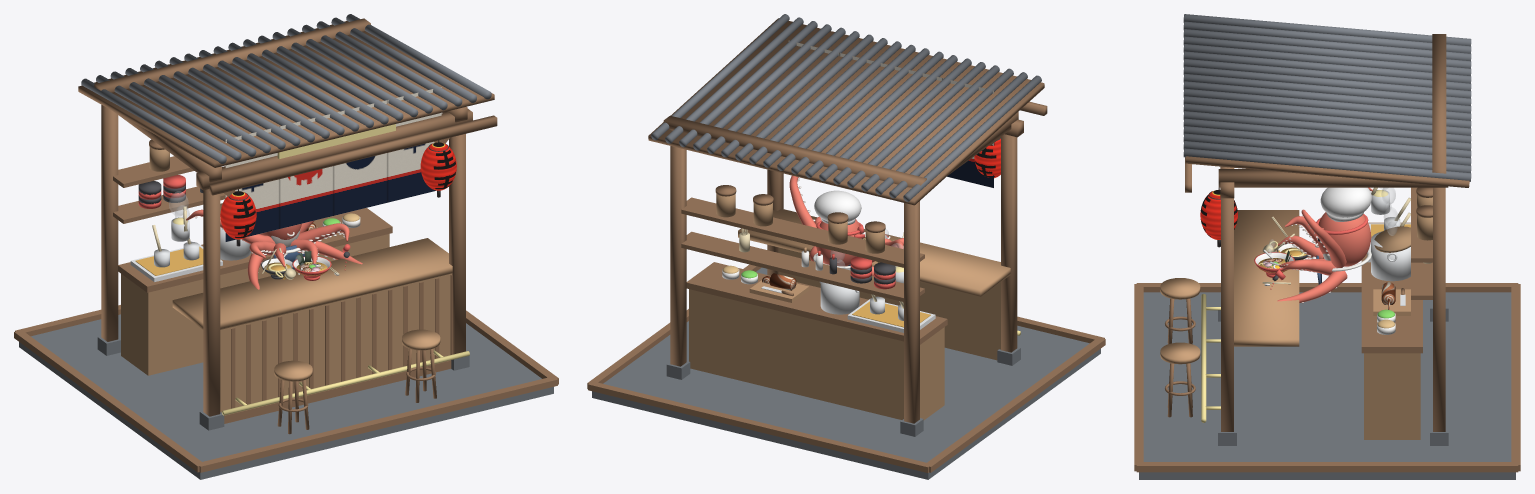
File: octopus_chef_ramen_booth.glb
3 views of the same model, side by side, from view 1: azimuth 30°, elevation 25°; view 2: azimuth 150°, elevation 25°; view 3: azimuth 270°, elevation 25° (orthographic). The views are drawn at different scales.
Parts seen in each view (by area): view 1: Floor_Base, Counter_Front, Roof_Subdeck, Counter_Top, Noren_Curtain, Back_Cabinet, Post_BL, Floor_Curb_F, Post_FL, Roof_Fascia, Post_FR, Beam_Front (+38 smaller); view 2: Floor_Base, Back_Cabinet, Roof_Subdeck, Counter_Front, Counter_Top, Back_Counter_Top, Post_BR, Floor_Curb_B, Shelf_Tier1, Post_FL, Post_BL, Shelf_Tier2 (+33 smaller); view 3: Floor_Base, Counter_Top, Back_Cabinet, Floor_Curb_R, Back_Counter_Top, Post_BR, Post_FR, Beam_Right, Roof_Tile_18, Roof_Subdeck, Roof_Tile_10, Roof_Tile_0 (+36 smaller).
Part boxes in pixels (bbox=[...]): Floor_Base: bbox=[19, 314, 553, 479]; Counter_Front: bbox=[220, 273, 452, 412]; Roof_Subdeck: bbox=[78, 21, 494, 167]; Counter_Top: bbox=[172, 238, 452, 329]; Noren_Curtain: bbox=[225, 87, 441, 241]; Back_Cabinet: bbox=[121, 234, 389, 375]; Post_BL: bbox=[101, 105, 118, 341]; Floor_Curb_F: bbox=[196, 376, 557, 472]; Post_FL: bbox=[203, 189, 220, 416]; Roof_Fascia: bbox=[209, 115, 497, 195]; Post_FR: bbox=[449, 134, 465, 354]; Beam_Front: bbox=[196, 109, 472, 190]; Floor_Base: bbox=[592, 267, 1100, 479]; Back_Cabinet: bbox=[689, 289, 944, 420]; Roof_Subdeck: bbox=[648, 18, 1044, 205]; Counter_Front: bbox=[778, 247, 1000, 360]; Counter_Top: bbox=[738, 208, 1010, 296]; Back_Counter_Top: bbox=[686, 262, 947, 344]; Post_BR: bbox=[670, 146, 686, 366]; Floor_Curb_B: bbox=[588, 381, 928, 472]; Shelf_Tier1: bbox=[681, 231, 924, 301]; Post_FL: bbox=[1001, 134, 1017, 352]; Post_BL: bbox=[904, 201, 919, 423]; Shelf_Tier2: bbox=[681, 197, 924, 267]; Floor_Base: bbox=[1139, 292, 1515, 479]; Counter_Top: bbox=[1234, 210, 1299, 346]; Back_Cabinet: bbox=[1364, 353, 1420, 439]; Floor_Curb_R: bbox=[1136, 462, 1518, 472]; Back_Counter_Top: bbox=[1361, 222, 1422, 353]; Post_BR: bbox=[1433, 187, 1445, 431]; Post_FR: bbox=[1221, 198, 1233, 431]; Beam_Right: bbox=[1218, 169, 1448, 187]; Roof_Tile_18: bbox=[1183, 148, 1471, 181]; Roof_Subdeck: bbox=[1185, 156, 1469, 187]; Roof_Tile_10: bbox=[1183, 88, 1471, 120]; Roof_Tile_0: bbox=[1183, 14, 1471, 46].
Size of the model in its own units: 3.68 by 2.89 by 3.28.
Materials: 36 (4 with a texture image).
